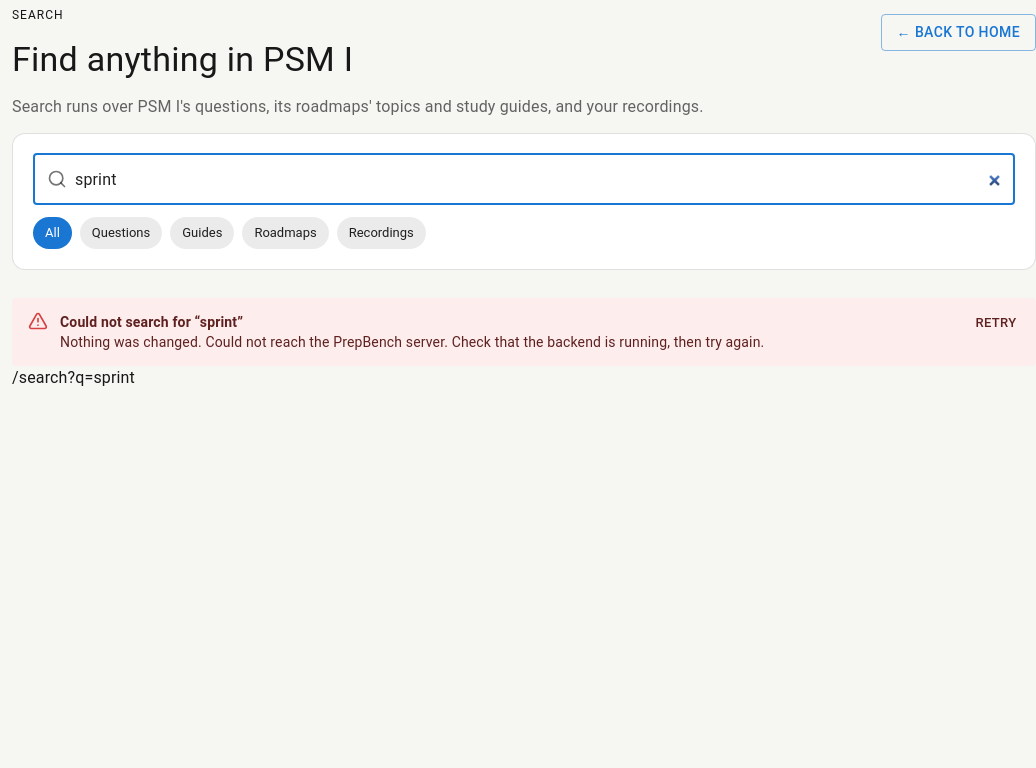
Test: SearchPage › says what failed and searches again on retry
expect the text "Could not search for “sprint”" is shown: met, box left=60, top=314, right=243, bottom=330
expect the text "Nothing was changed" is shown: met, box left=60, top=334, right=202, bottom=350
Click the button "Retry".
click(996, 323)  # box left=964, top=308, right=1028, bottom=339
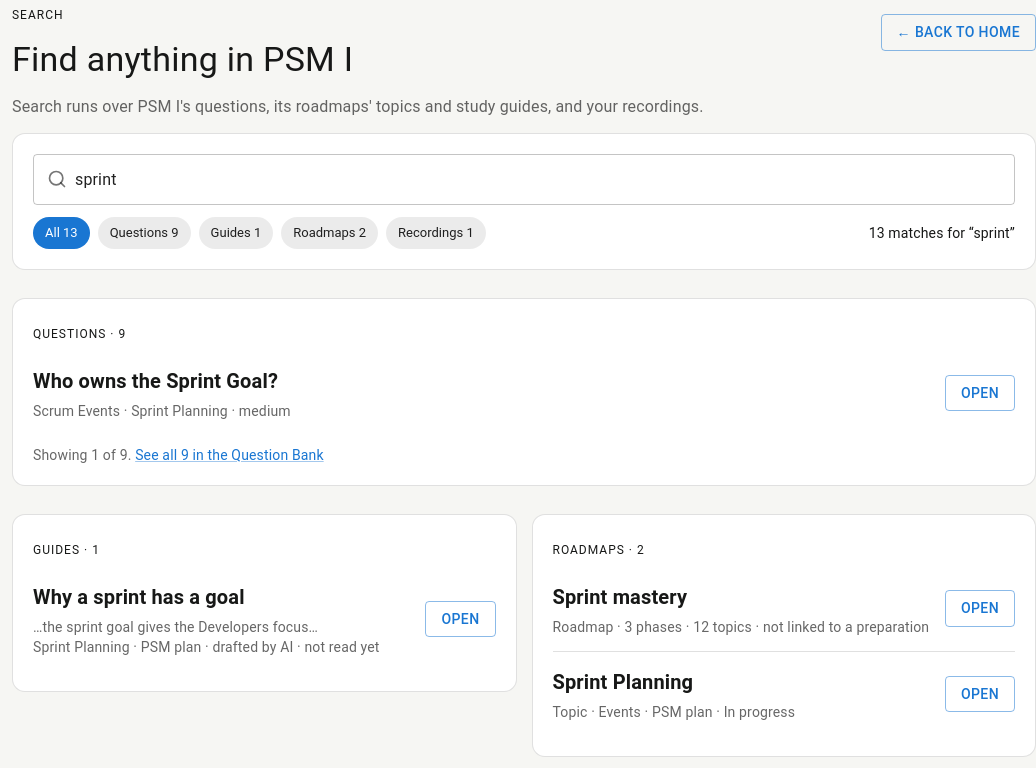
expect the button "All 13" is shown: met, box left=33, top=217, right=90, bottom=249
